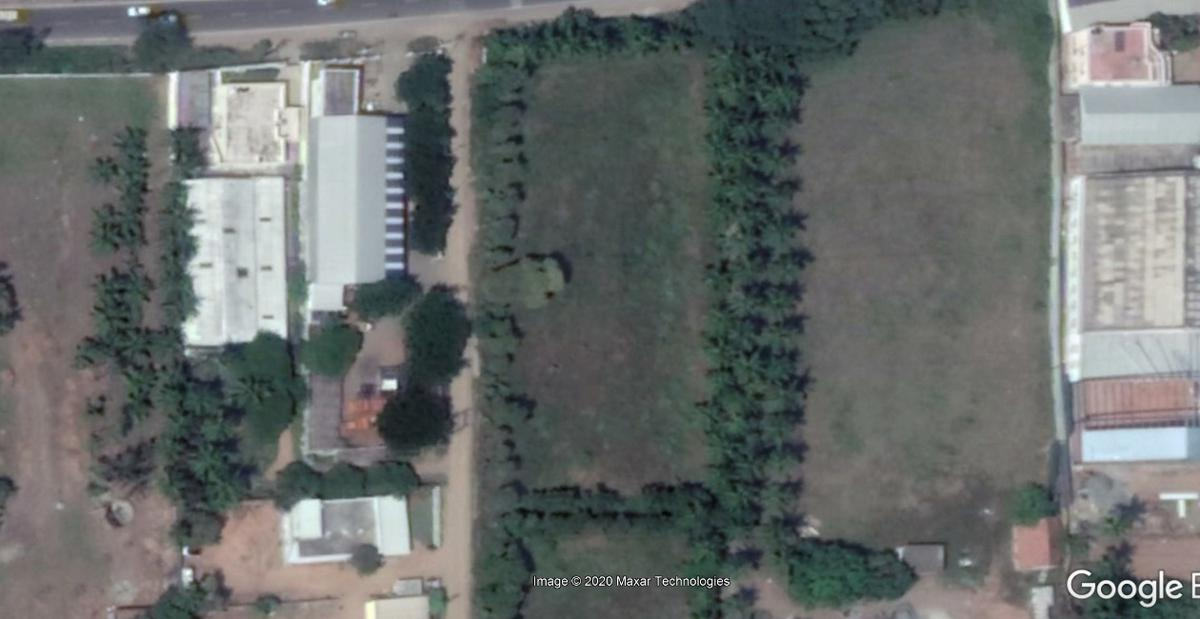coconut: (702, 91, 748, 143), (709, 427, 764, 463), (725, 269, 764, 319), (207, 467, 244, 514), (89, 264, 131, 303), (81, 298, 129, 332), (763, 71, 800, 115), (175, 382, 220, 418), (120, 326, 161, 364), (722, 172, 769, 205), (704, 39, 742, 78), (761, 348, 800, 385), (240, 367, 276, 407), (722, 135, 760, 172), (125, 382, 158, 422), (729, 346, 761, 386), (766, 279, 806, 311), (1098, 544, 1133, 580), (184, 441, 223, 473), (84, 216, 120, 250), (769, 509, 802, 545), (560, 25, 592, 62), (723, 477, 760, 508), (661, 19, 694, 53), (768, 475, 802, 507), (766, 131, 801, 162), (116, 123, 147, 155), (84, 150, 112, 181), (773, 240, 804, 268), (773, 208, 797, 240), (157, 359, 185, 385)
